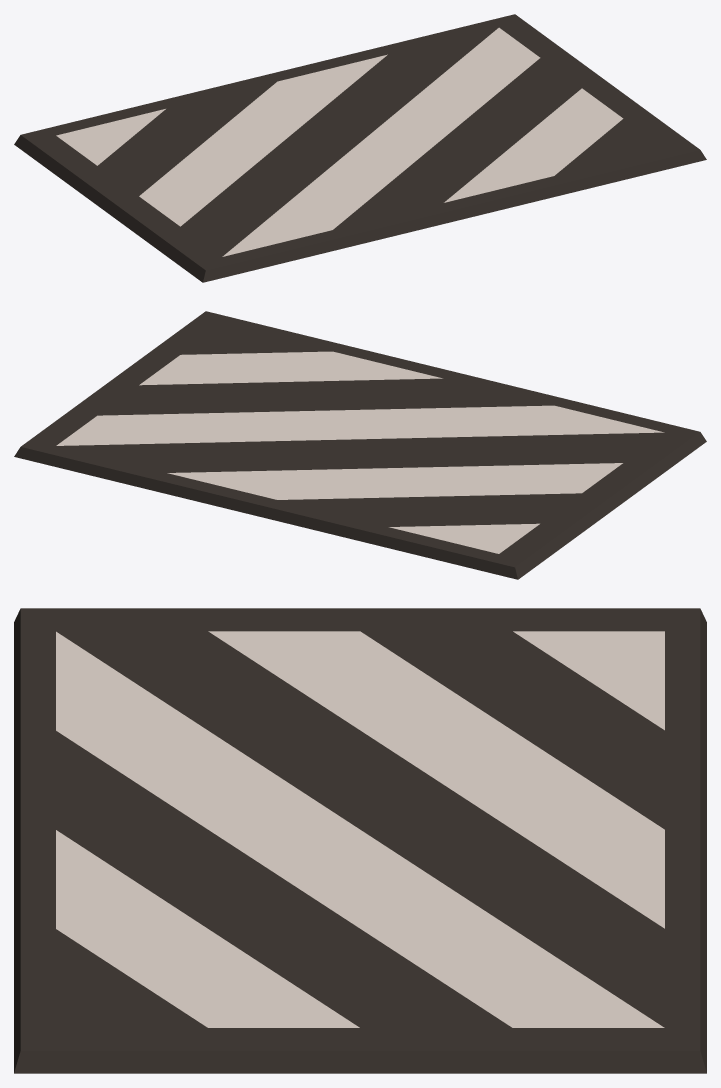
The model's file is 65_prop_rug.FBX.
The picture shows the model from 3 angles, top to bottom: view 1: azimuth 30°, elevation 25°; view 2: azimuth 150°, elevation 25°; view 3: azimuth 270°, elevation 25°; orthographic projection. The views are drawn at different scales.
Visible parts, largest first — view 1: prop_rug; view 2: prop_rug; view 3: prop_rug.
Part boxes in pixels (x1=…): prop_rug: x1=14, y1=14, x2=706, y2=282; prop_rug: x1=14, y1=311, x2=706, y2=579; prop_rug: x1=14, y1=608, x2=706, y2=1073.
Size of the model in its own units: 75.06 by 1.41 by 48.71.
